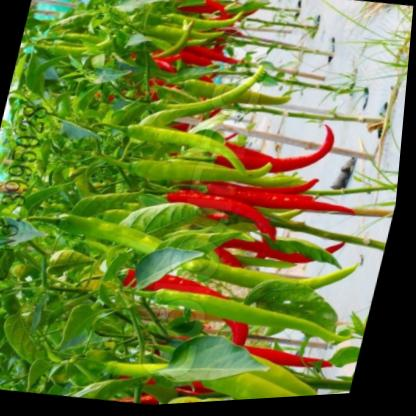chilli_pepper: (110, 270, 367, 367), (72, 132, 283, 206), (117, 176, 293, 251), (74, 110, 264, 173)
